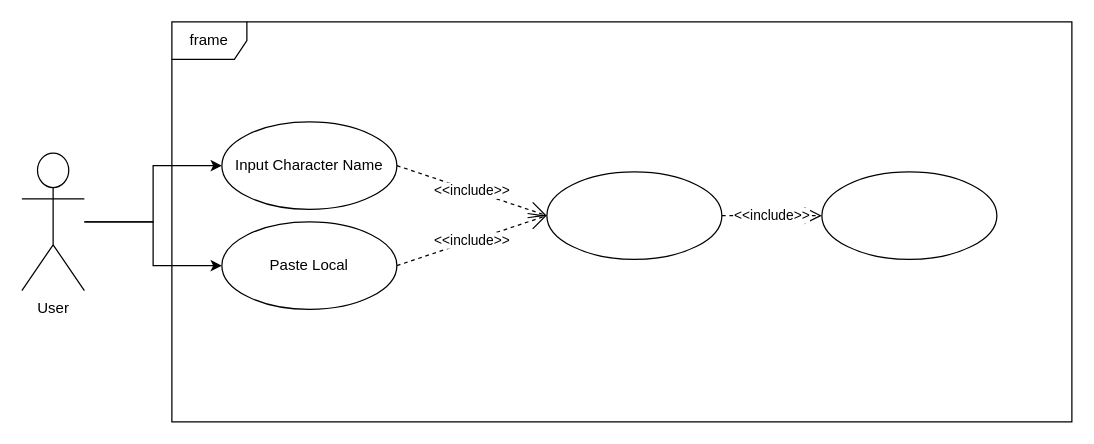
The diagram is 1094 pixels wide and 444 high, and some of its shapes have lost their labels. The shapes that lost their labels are listed below. From the top down, each one's box as (x1, y1, x2, y2) in pixels, then its label:
(546, 171, 722, 259): List Connections
(821, 171, 997, 259): Save Results
